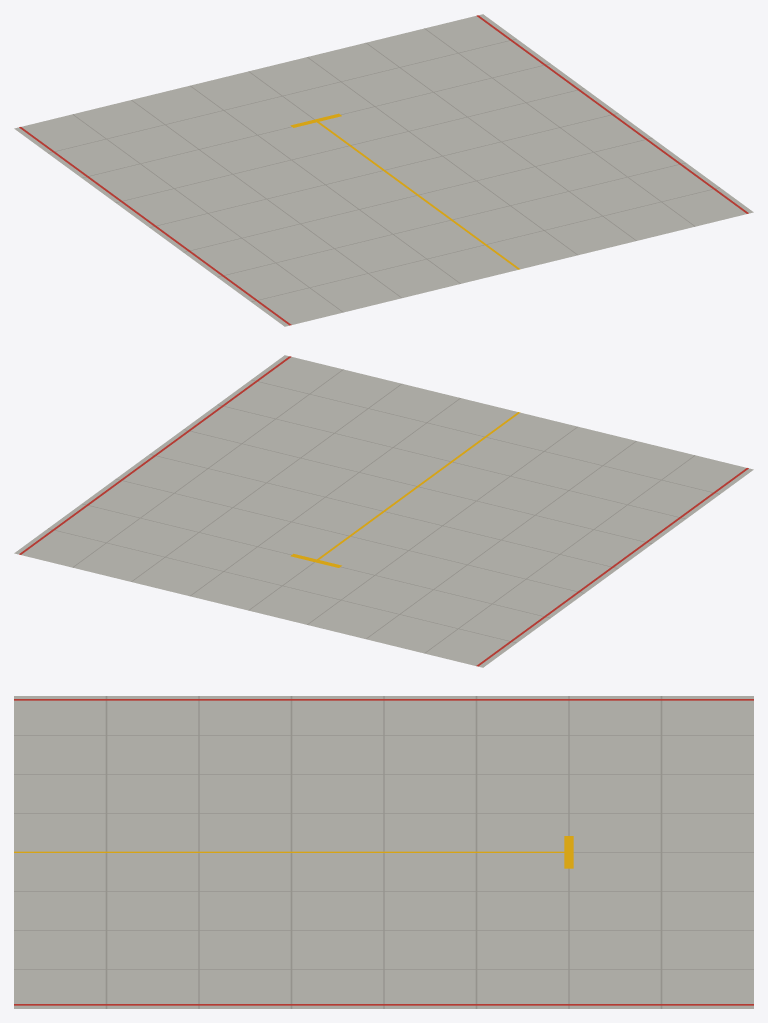
The model's file is patio-posicao.glb.
The picture shows the model from 3 angles, top to bottom: view 1: azimuth 30°, elevation 25°; view 2: azimuth 150°, elevation 25°; view 3: azimuth 270°, elevation 25°; orthographic projection. The views are drawn at different scales.
Parts seen in each view (by area): view 1: Paredes, Molduras; view 2: Paredes, Molduras; view 3: Paredes, Molduras.
Boxes of the visible parts, <box> form: Paredes: <box>14,14,753,326</box>; Molduras: <box>19,15,748,325</box>; Paredes: <box>14,355,753,667</box>; Molduras: <box>19,356,748,666</box>; Paredes: <box>14,696,753,1008</box>; Molduras: <box>14,696,753,1008</box>.
Bounding box in the file's own units: 48 × 0.012 × 48.
